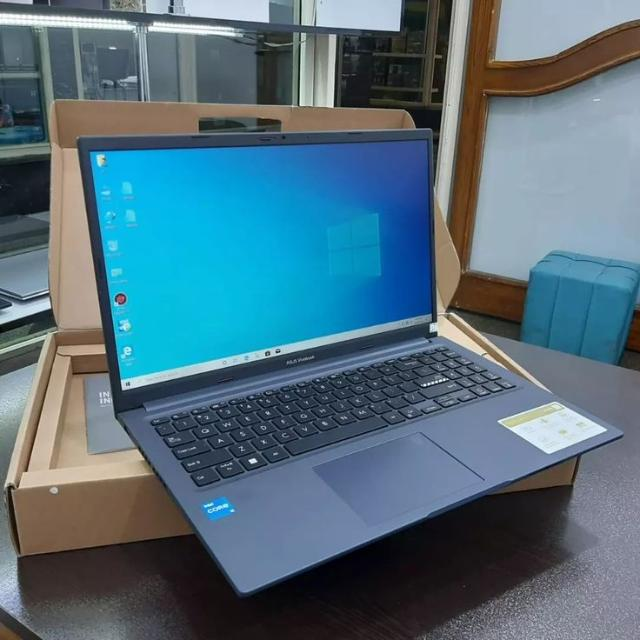laptop: (60, 131, 624, 595)
